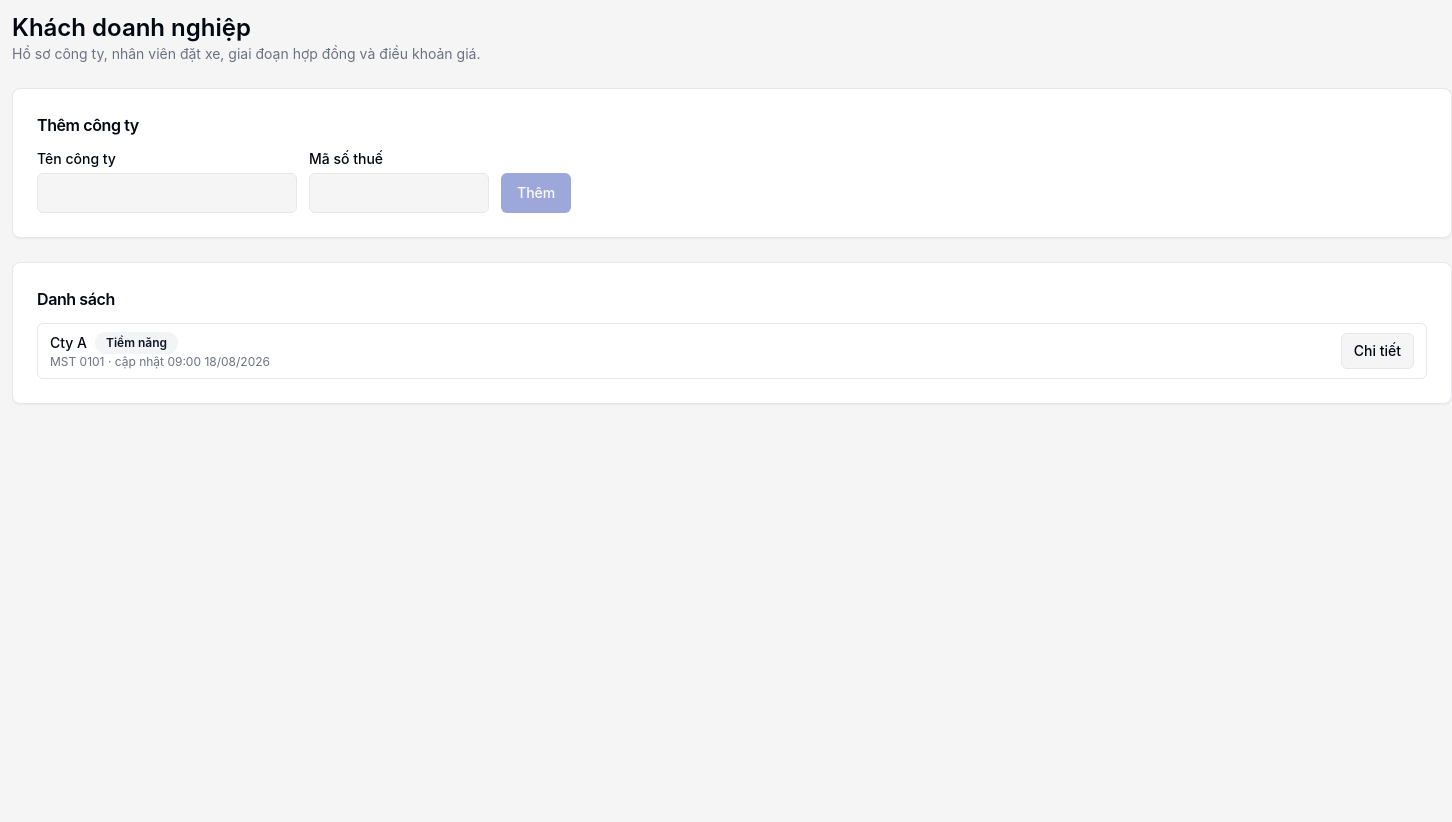
Test case: /crm-accounts › CHURNED vẫn có đường quay lại Đang hoạt động
The width and height of the screenshot is (1452, 822).
Click the button "Chi tiết " at (1377, 351), box [1341, 333, 1414, 369]
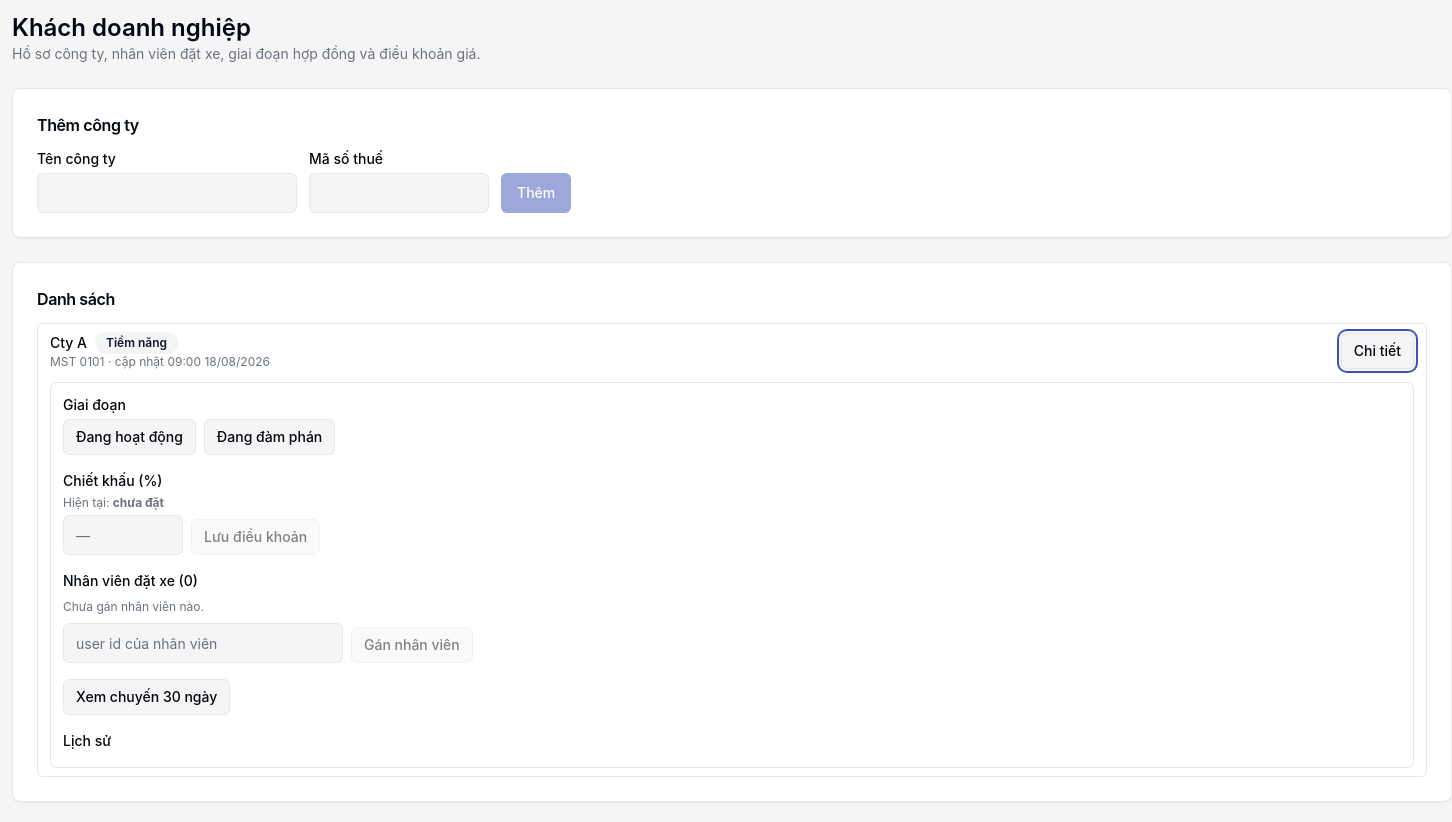
Now the button "Đang hoạt động" is shown, box [63, 419, 196, 455]
